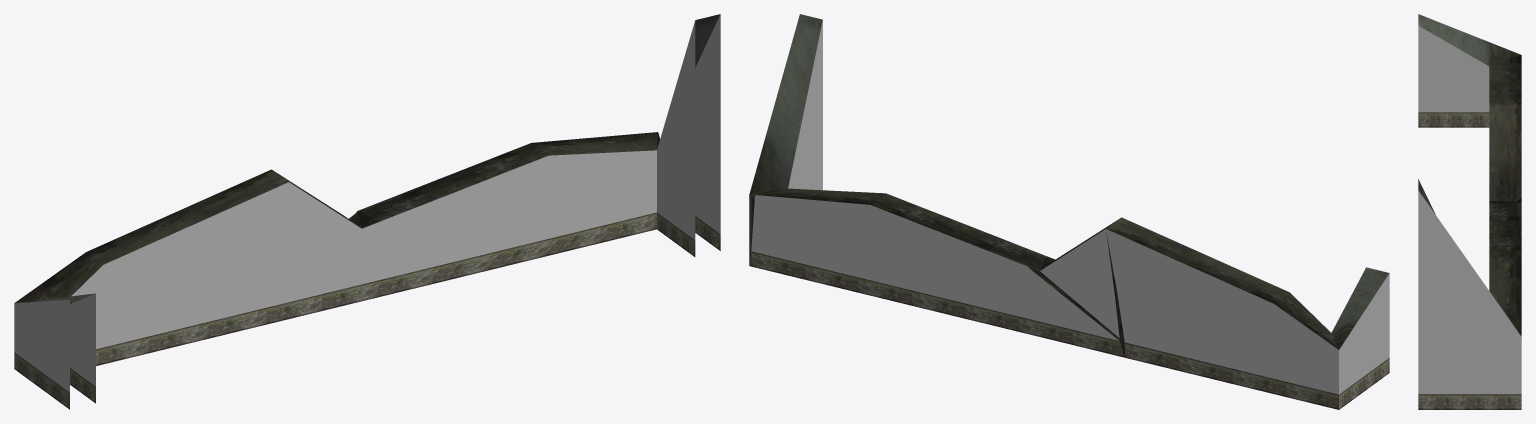
Rendered from Store_front_5_F.fbx.
The picture shows the model from 3 angles, left to right: view 1: azimuth 30°, elevation 25°; view 2: azimuth 150°, elevation 25°; view 3: azimuth 270°, elevation 25°; orthographic projection. The views are drawn at different scales.
Visible parts, largest first — view 1: Store_front_5_F; view 2: Store_front_5_F; view 3: Store_front_5_F.
Boxes of the visible parts, bbox=[...] form: Store_front_5_F: bbox=[14, 14, 720, 409]; Store_front_5_F: bbox=[749, 14, 1389, 409]; Store_front_5_F: bbox=[1418, 14, 1521, 409].
Size of the model in its own units: 700 by 244 by 104.
